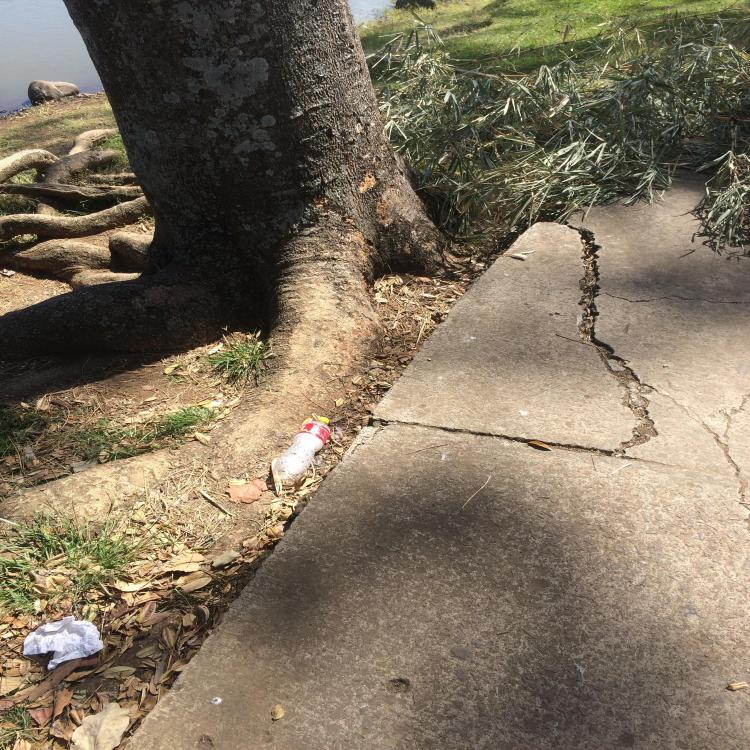Clear plastic bottle: (273, 417, 330, 481)
Normal paper: (23, 615, 104, 670)
